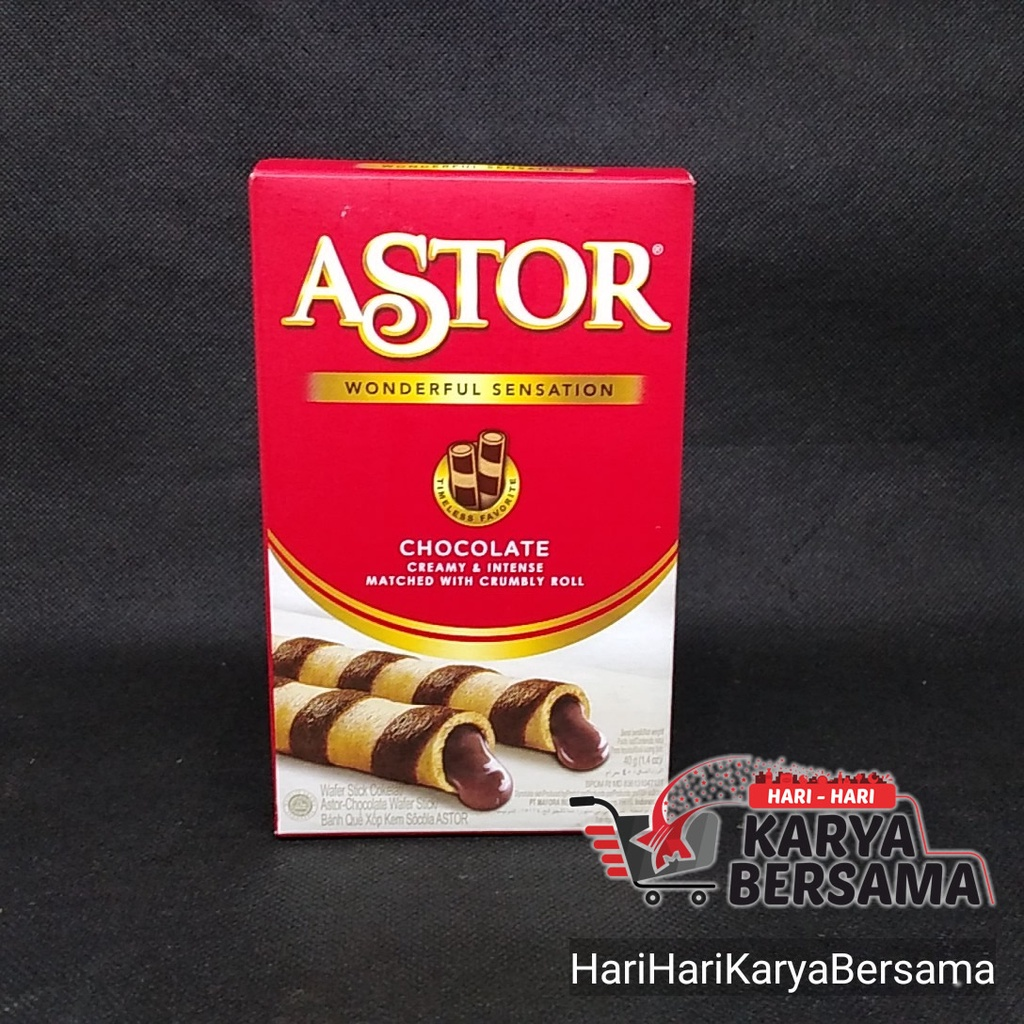Astor Chocolate (40g): (225, 143, 703, 832)
